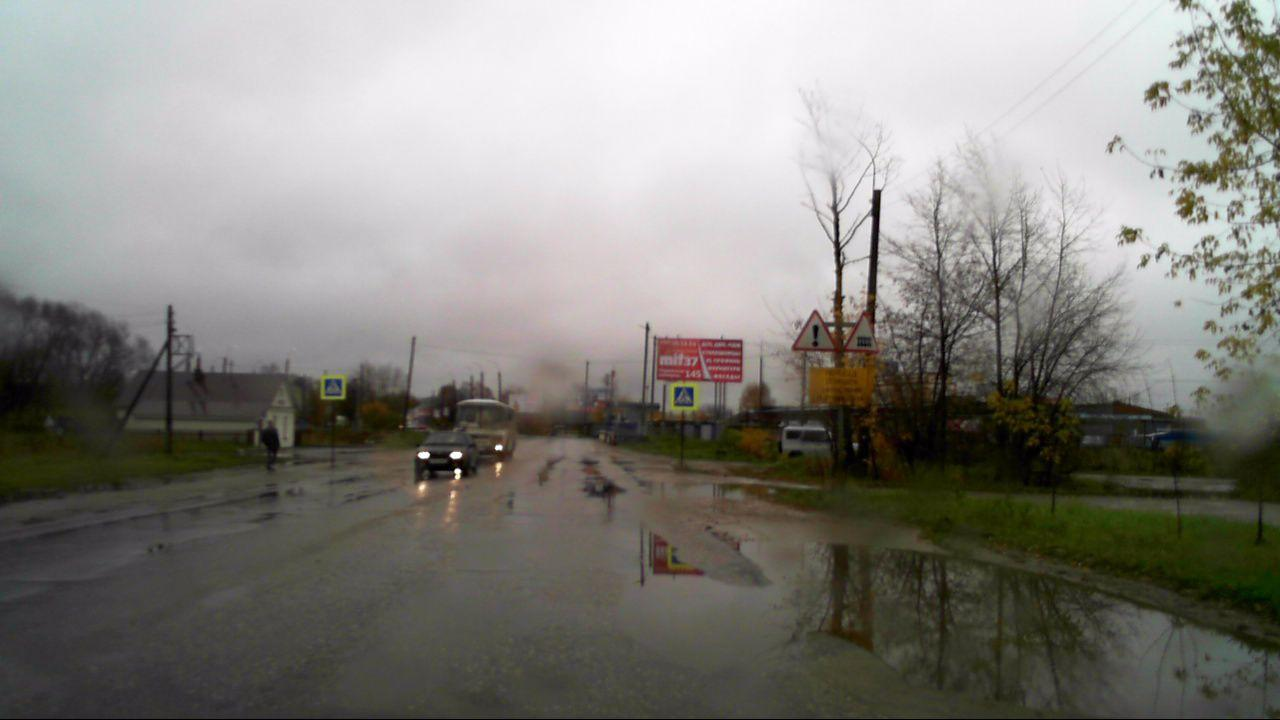1_1: (844, 306, 884, 352)
1_33: (790, 309, 839, 353)
5_19_1: (675, 385, 694, 406)
5_19_2: (324, 377, 343, 397)
